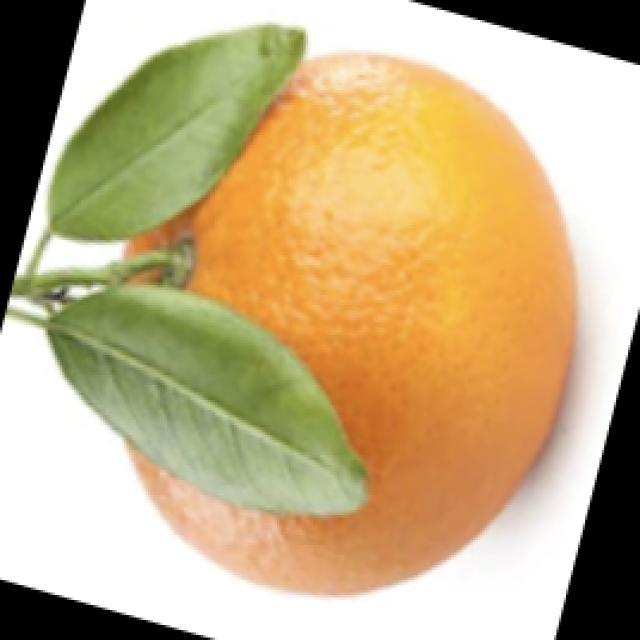Orange: (118, 49, 577, 596)
